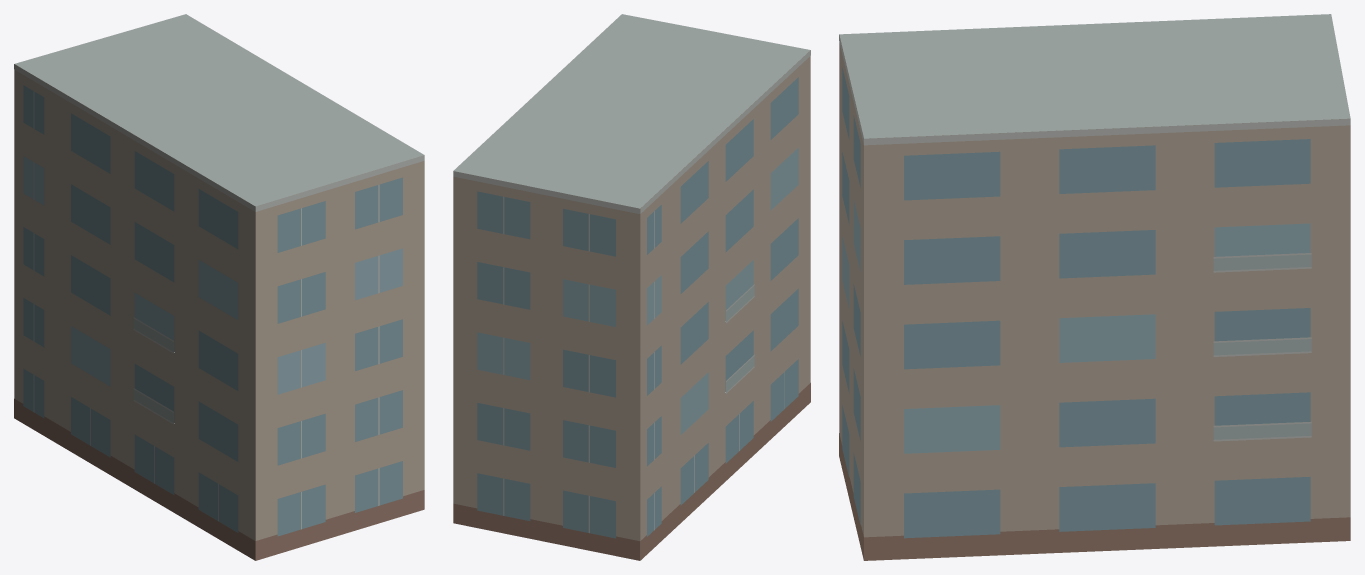
The model's file is survey-upis-32571241.glb.
3 views of the same model, side by side, from view 1: azimuth 30°, elevation 25°; view 2: azimuth 150°, elevation 25°; view 3: azimuth 270°, elevation 25° (orthographic). The views are drawn at different scales.
Visible parts, largest first — view 1: survey-upis-32571241.tmp; view 2: survey-upis-32571241.tmp; view 3: survey-upis-32571241.tmp.
Boxes of the visible parts, x1,y1,x2,y2 form: survey-upis-32571241.tmp: (14, 14, 424, 560); survey-upis-32571241.tmp: (453, 14, 810, 560); survey-upis-32571241.tmp: (839, 14, 1350, 560).
Bounding box in the file's own units: 9.82 × 15.5 × 17.03.
